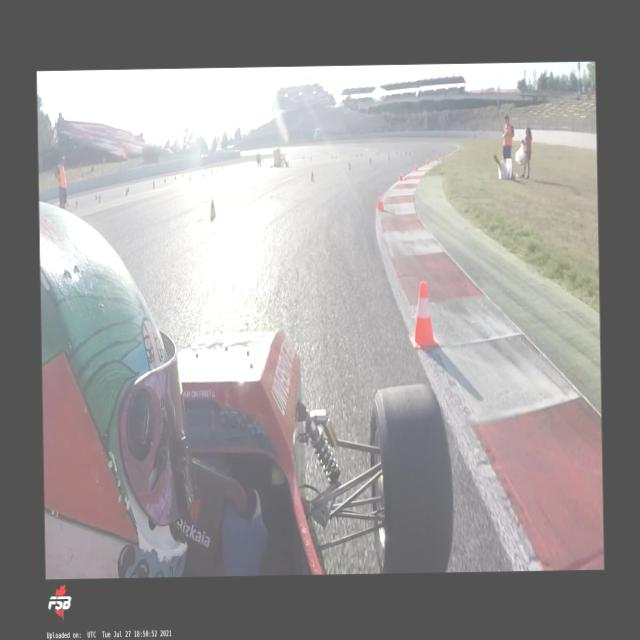orange_cone: (408, 280, 438, 348), (376, 191, 385, 211), (398, 170, 403, 180), (414, 162, 418, 172), (94, 192, 98, 200), (66, 198, 68, 206), (426, 158, 428, 164), (436, 154, 438, 160)
unknown_cone: (124, 187, 128, 196), (126, 185, 128, 192)
yellow_cone: (208, 198, 214, 218), (310, 170, 314, 182), (348, 160, 351, 170), (75, 198, 78, 208), (368, 156, 371, 164), (98, 194, 100, 204), (386, 156, 389, 160), (399, 152, 401, 158), (388, 151, 390, 155)
